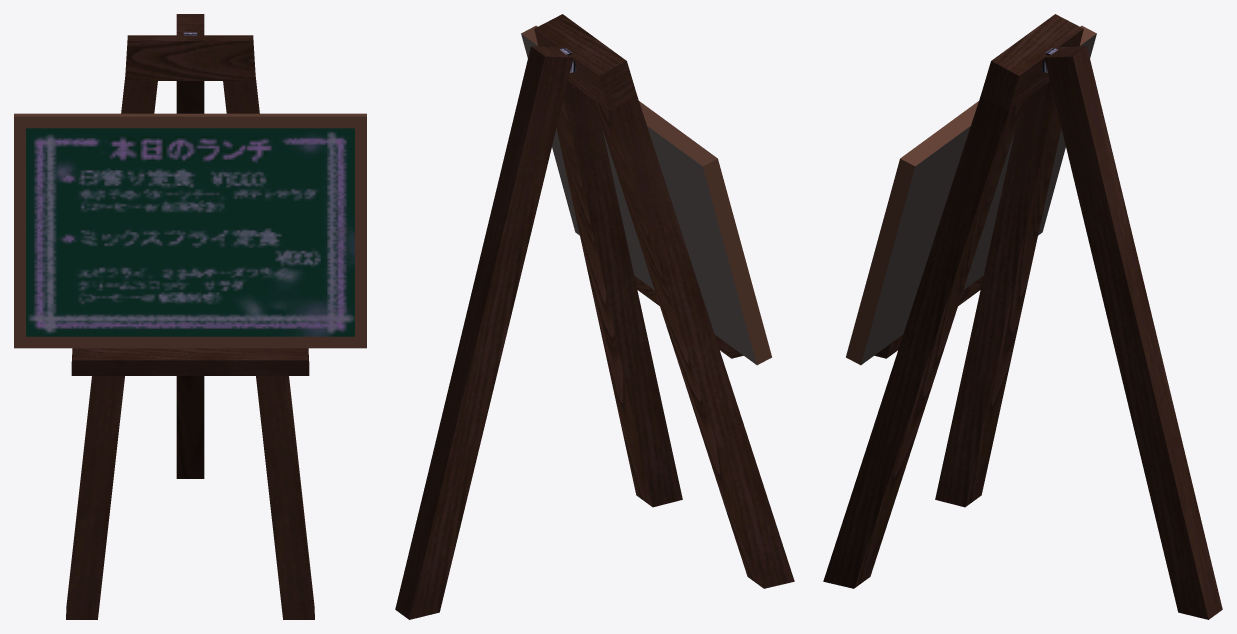
The picture shows the model from 3 angles, left to right: view 1: azimuth 30°, elevation 25°; view 2: azimuth 150°, elevation 25°; view 3: azimuth 270°, elevation 25°; orthographic projection. The views are drawn at different scales.
Parts seen in each view (by area): view 1: Joint_0_Object_1; view 2: Joint_0_Object_1; view 3: Joint_0_Object_1.
Part boxes in pixels (<box>): Joint_0_Object_1: <box>14,14,366,619</box>; Joint_0_Object_1: <box>395,14,794,619</box>; Joint_0_Object_1: <box>823,14,1222,619</box>.
Size of the model in its own units: 1099 by 1811 by 1237.
Materials: 2 (2 with a texture image).
